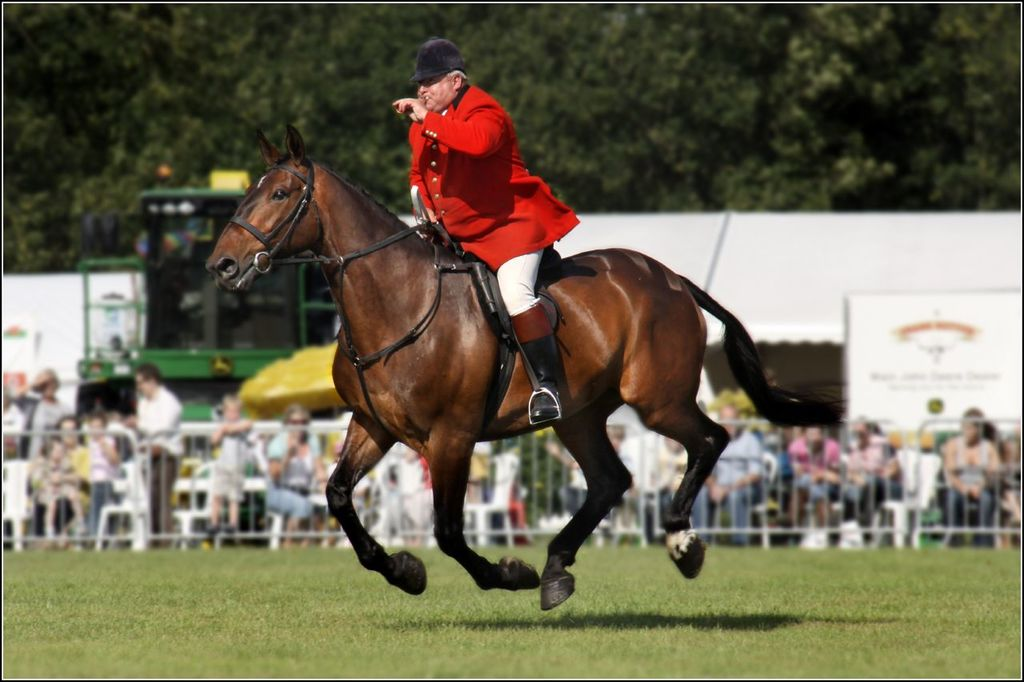horse: (204, 123, 848, 611)
